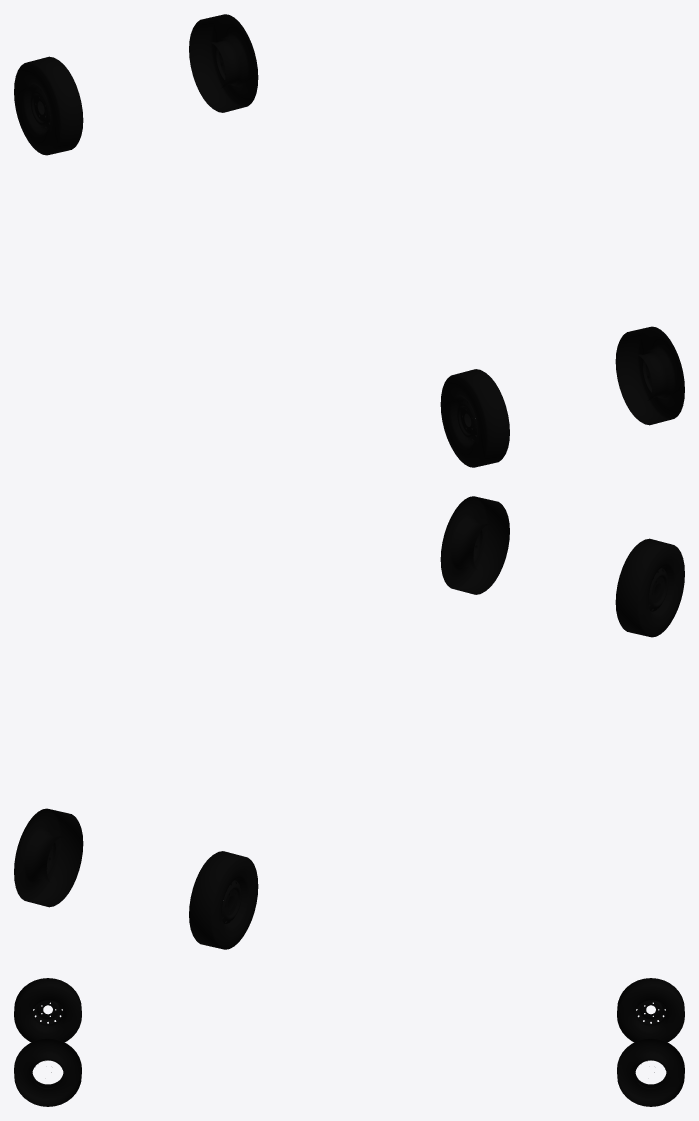
3 views of the same model, one above another, from view 1: azimuth 30°, elevation 25°; view 2: azimuth 150°, elevation 25°; view 3: azimuth 270°, elevation 25° (orthographic). The views are drawn at different scales.
Visible parts, largest first — view 1: wheels; view 2: wheels; view 3: wheels.
Part boxes in pixels (x1=…): wheels: x1=14, y1=14, x2=684, y2=467; wheels: x1=14, y1=496, x2=684, y2=949; wheels: x1=14, y1=978, x2=684, y2=1106.
Bounding box in the file's own units: 1.75 × 0.723 × 7.13.
Materials: 1 (1 with a texture image).
